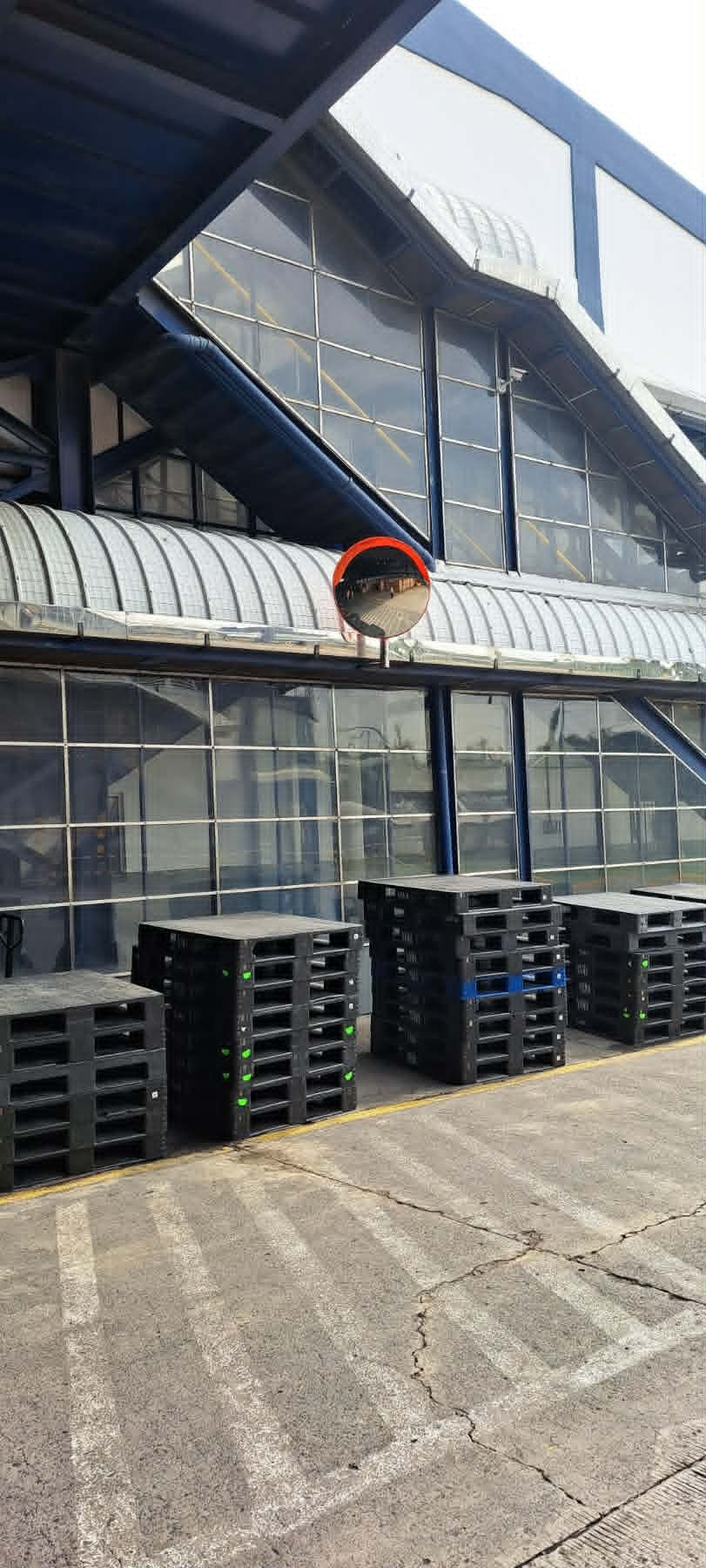safety-vest: (124, 50, 680, 638)
